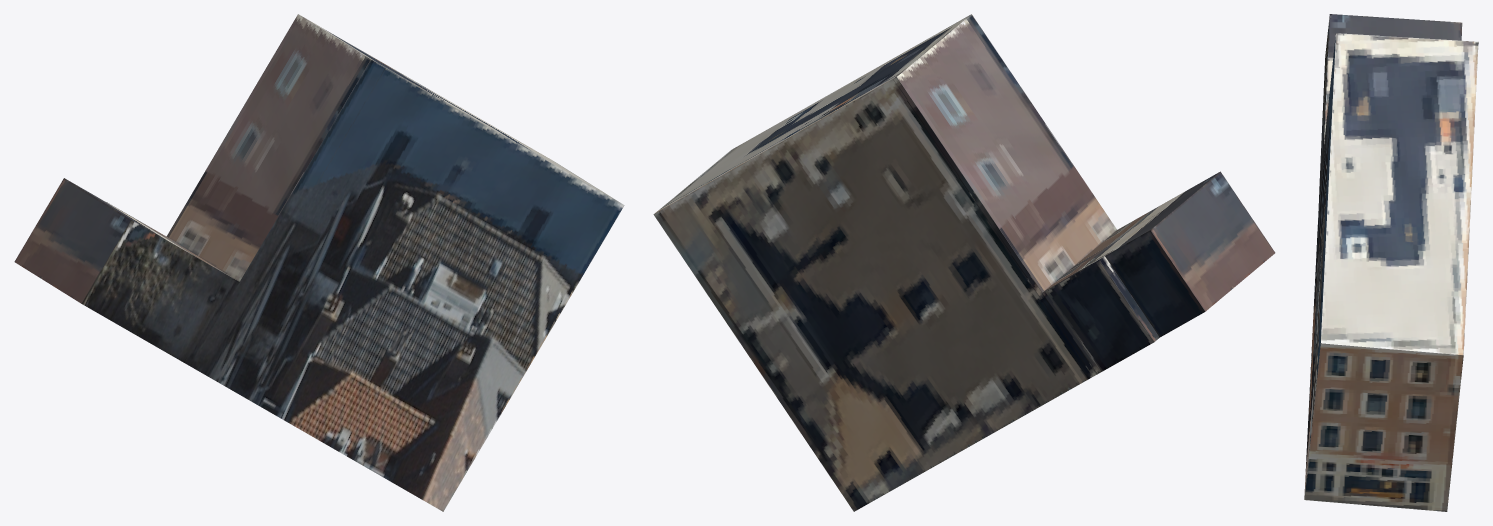
The picture shows the model from 3 angles, left to right: view 1: azimuth 30°, elevation 25°; view 2: azimuth 150°, elevation 25°; view 3: azimuth 270°, elevation 25°; orthographic projection. The views are drawn at different scales.
Visible parts, largest first — view 1: BAG_0599100000671694 (×4); view 2: BAG_0599100000671694 (×5); view 3: BAG_0599100000671694 (×4).
Boxes of the visible parts, bbox=[...] form: BAG_0599100000671694 (×4): bbox=[14, 14, 624, 511]; BAG_0599100000671694 (×5): bbox=[653, 14, 1275, 511]; BAG_0599100000671694 (×4): bbox=[1304, 14, 1478, 511].
Size of the model in its own units: 27.11 by 22.15 by 7.77.
Materials: 6 (6 with a texture image).
